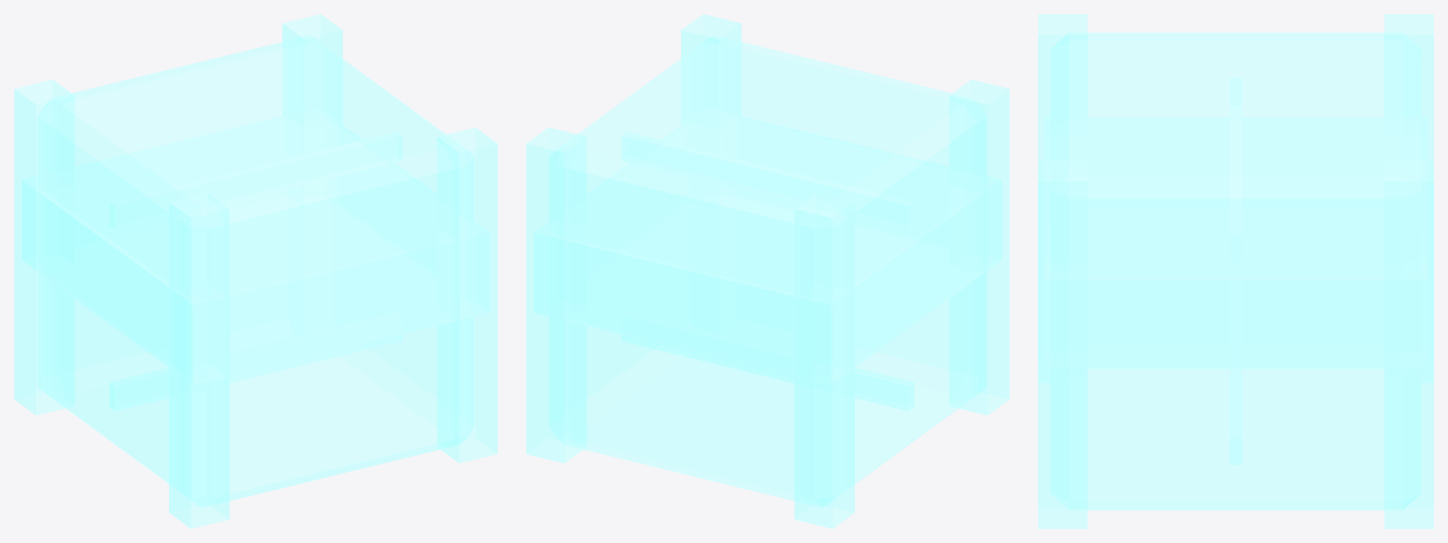
File: GH_Product_Crate.fbx
The picture shows the model from 3 angles, left to right: view 1: azimuth 30°, elevation 25°; view 2: azimuth 150°, elevation 25°; view 3: azimuth 270°, elevation 25°; orthographic projection. The views are drawn at different scales.
Visible parts, largest first — view 1: SM_Product_Crate; view 2: SM_Product_Crate; view 3: SM_Product_Crate.
Part boxes in pixels (left/top/right/bottom): SM_Product_Crate: left=14, top=14, right=497, bottom=528; SM_Product_Crate: left=526, top=14, right=1009, bottom=528; SM_Product_Crate: left=1038, top=14, right=1433, bottom=528.
Size of the model in its own units: 0.64 by 0.62 by 0.64.
